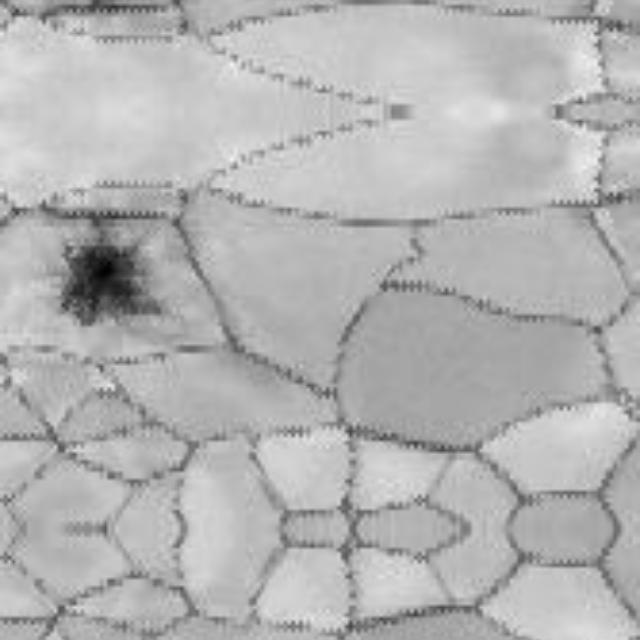good_void: (42, 223, 167, 337)
